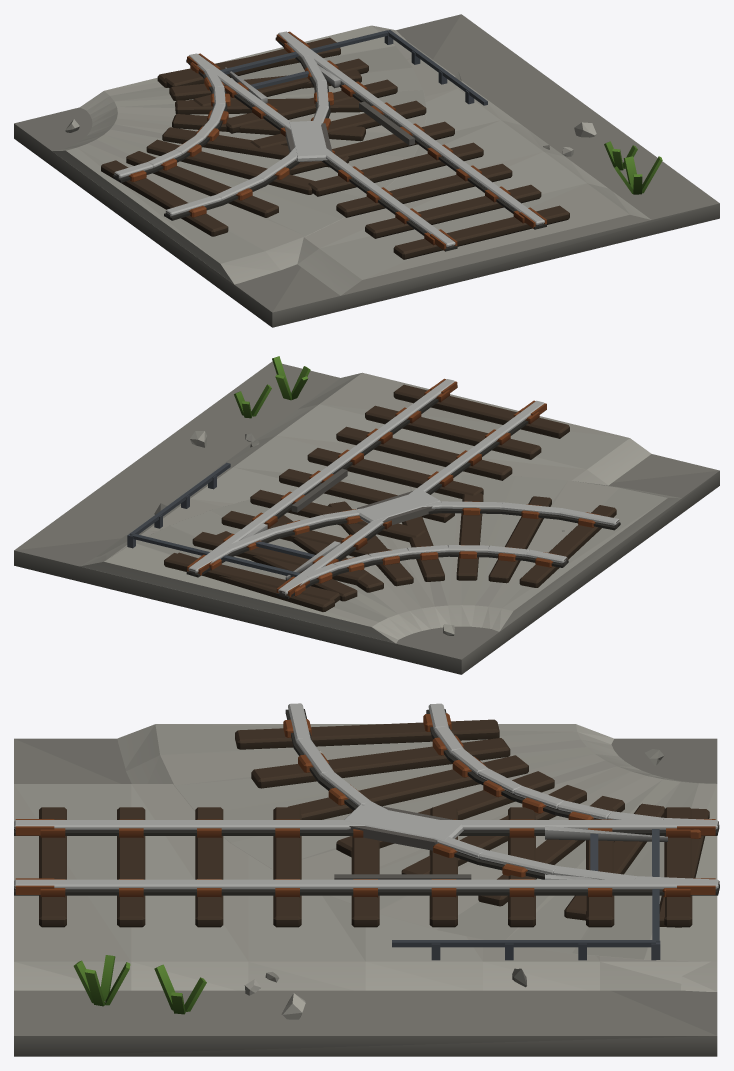
File: track-points-left-t-tile.glb
3 renders of one model, top to bottom at view 1: azimuth 30°, elevation 25°; view 2: azimuth 150°, elevation 25°; view 3: azimuth 270°, elevation 25°, orthographic. The views are drawn at different scales.
Parts seen in each view (by area): view 1: track_points_left_t_tile; view 2: track_points_left_t_tile; view 3: track_points_left_t_tile.
Boxes of the visible parts, x1,y1,x2,y2 form: track_points_left_t_tile: [14, 14, 719, 327]; track_points_left_t_tile: [14, 356, 719, 674]; track_points_left_t_tile: [14, 703, 719, 1056].
Bounding box in the file's own units: 4.01 × 0.4102 × 4.01.
